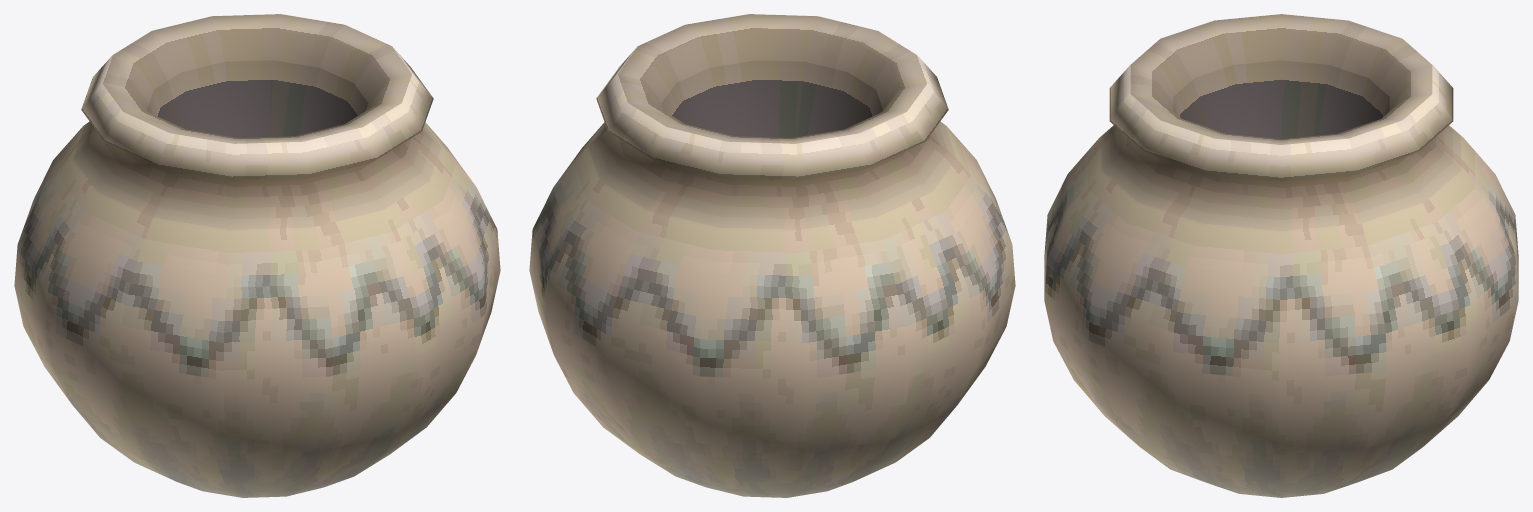
The model's file is rmk_oth_kameW.dae.
The picture shows the model from 3 angles, left to right: view 1: azimuth 30°, elevation 25°; view 2: azimuth 150°, elevation 25°; view 3: azimuth 270°, elevation 25°; orthographic projection.
Visible parts, largest first — view 1: rmk_oth_kameW; view 2: rmk_oth_kameW; view 3: rmk_oth_kameW.
Boxes of the visible parts, x1,y1,x2,y2 form: rmk_oth_kameW: (14,14,500,497); rmk_oth_kameW: (529,14,1015,497); rmk_oth_kameW: (1044,14,1518,497).
Bounding box in the file's own units: 20.15 × 18.18 × 19.65.
Materials: 1 (1 with a texture image).
